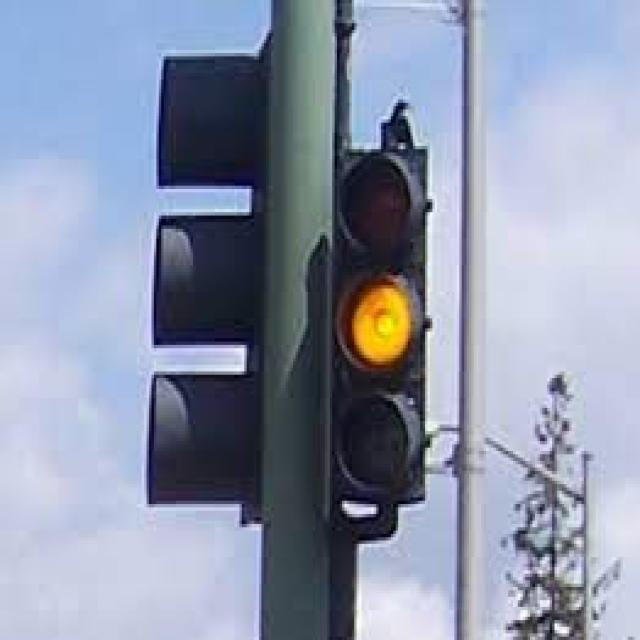yellow_light: (339, 151, 423, 502)
